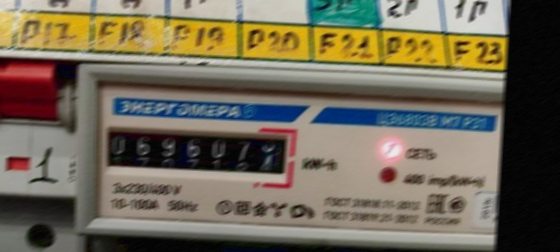0: (209, 138, 225, 161), (109, 135, 124, 157)
4: (258, 154, 272, 175)
6: (134, 136, 149, 157), (184, 138, 199, 159)
7: (234, 141, 250, 163)
9: (159, 137, 173, 159)
screen: (91, 117, 300, 188)
